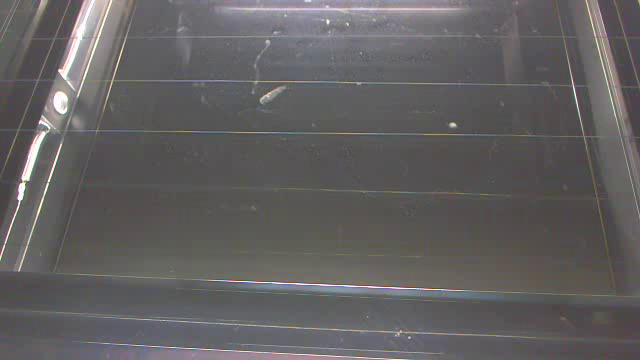alpha: (257, 84, 284, 106), (444, 119, 459, 129)
